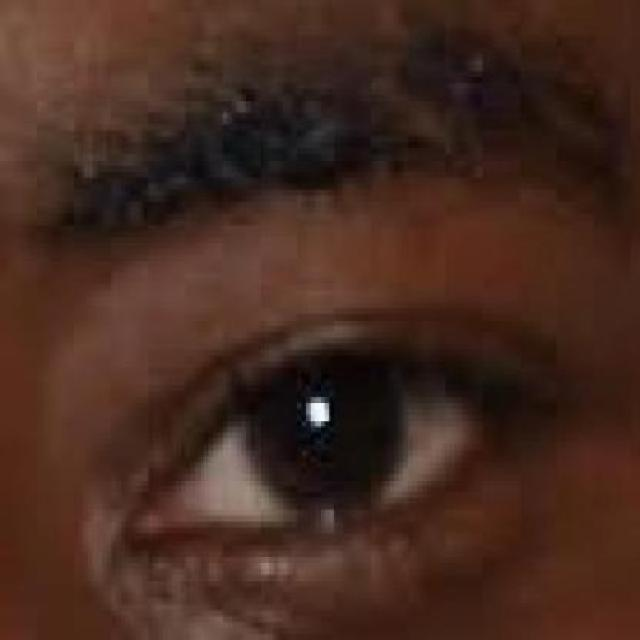awake: (101, 315, 562, 593)
